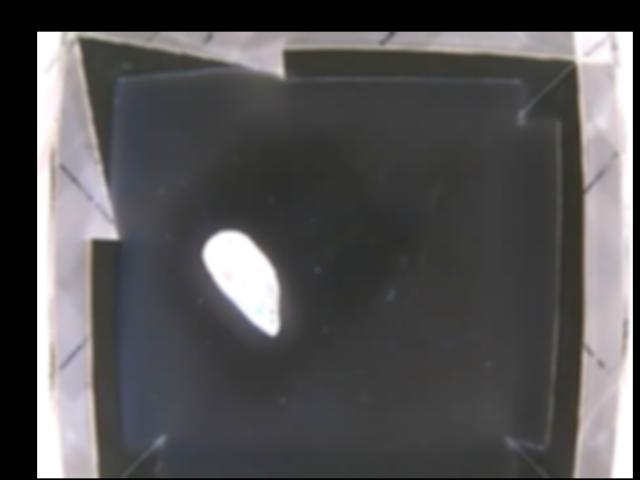Shell: (202, 229, 281, 335)
